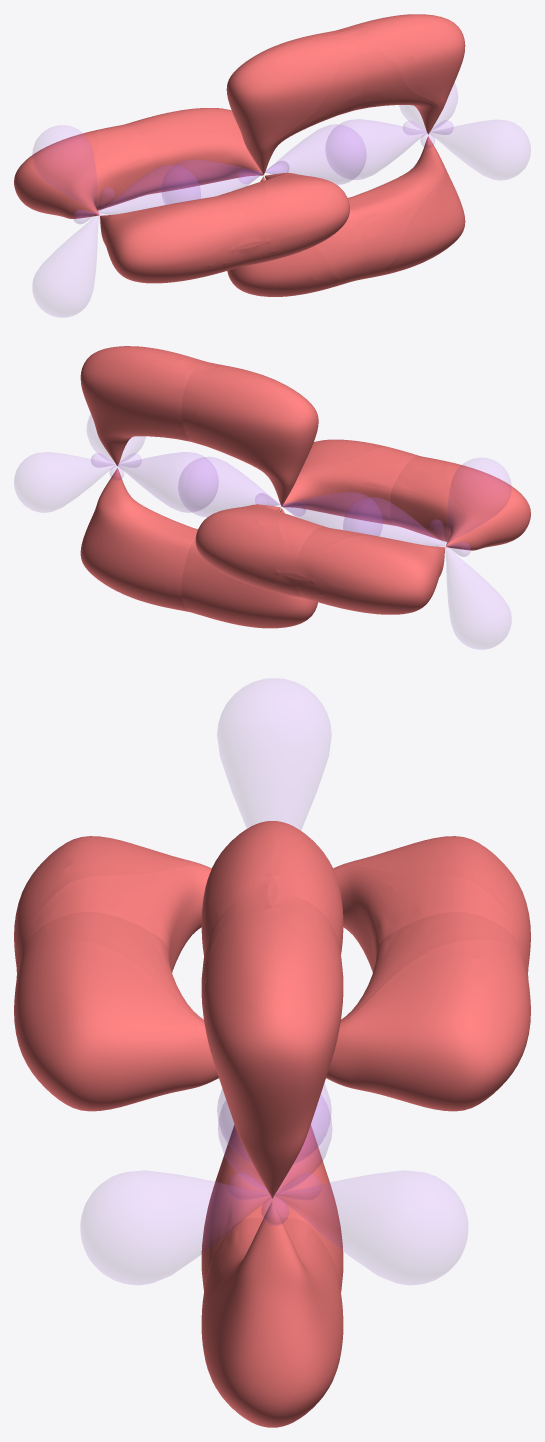
File: s054 4.06.2_vazba_CO2.glb
3 renders of one model, top to bottom at view 1: azimuth 30°, elevation 25°; view 2: azimuth 150°, elevation 25°; view 3: azimuth 270°, elevation 25°, orthographic. The views are drawn at different scales.
Visible parts, largest first — view 1: hybrid.010_Sphere.003, hybrid.010_Sphere.003 2, hybrid.004_Sphere, hybrid.004_Sphere.005, hybrid.004_Sphere.004, hybrid.004_Sphere.003, hybrid.004_Sphere.002, hybrid.004_Sphere.006, hybrid.004_Sphere.007, hybrid.004_Sphere.001; view 2: hybrid.010_Sphere.003, hybrid.010_Sphere.003 2, hybrid.004_Sphere, hybrid.004_Sphere.005, hybrid.004_Sphere.001, hybrid.004_Sphere.003, hybrid.004_Sphere.002, hybrid.004_Sphere.006, hybrid.004_Sphere.007, hybrid.004_Sphere.004; view 3: hybrid.010_Sphere.003 2, hybrid.010_Sphere.003, hybrid.004_Sphere.004, hybrid.004_Sphere.001, hybrid.004_Sphere.002, hybrid.004_Sphere.005, hybrid.004_Sphere.003.
Part boxes in pixels (x1,y1,x2,y2): hybrid.010_Sphere.003: (226,14,465,296); hybrid.010_Sphere.003 2: (14,108,349,283); hybrid.004_Sphere: (33,187,114,316); hybrid.004_Sphere.005: (326,119,453,179); hybrid.004_Sphere.004: (403,120,530,179); hybrid.004_Sphere.003: (239,124,365,184); hybrid.004_Sphere.002: (33,125,101,215); hybrid.004_Sphere.006: (162,159,288,204); hybrid.004_Sphere.007: (73,165,200,223); hybrid.004_Sphere.001: (399,83,457,147); hybrid.010_Sphere.003: (80,346,318,628); hybrid.010_Sphere.003 2: (195,439,530,614); hybrid.004_Sphere: (429,520,511,649); hybrid.004_Sphere.005: (91,452,218,512); hybrid.004_Sphere.001: (14,452,141,512); hybrid.004_Sphere.003: (178,457,305,516); hybrid.004_Sphere.002: (443,458,511,546); hybrid.004_Sphere.006: (255,492,382,535); hybrid.004_Sphere.007: (343,497,470,556); hybrid.004_Sphere.004: (87,415,145,480); hybrid.010_Sphere.003 2: (14,836,530,1111); hybrid.010_Sphere.003: (201,821,343,1427); hybrid.004_Sphere.004: (81,1171,320,1284); hybrid.004_Sphere.001: (227,1171,467,1284); hybrid.004_Sphere.002: (217,679,330,829); hybrid.004_Sphere.005: (218,1095,331,1225); hybrid.004_Sphere.003: (217,1083,331,1163).
Size of the model in its own units: 12.06 by 6.32 by 6.32.
